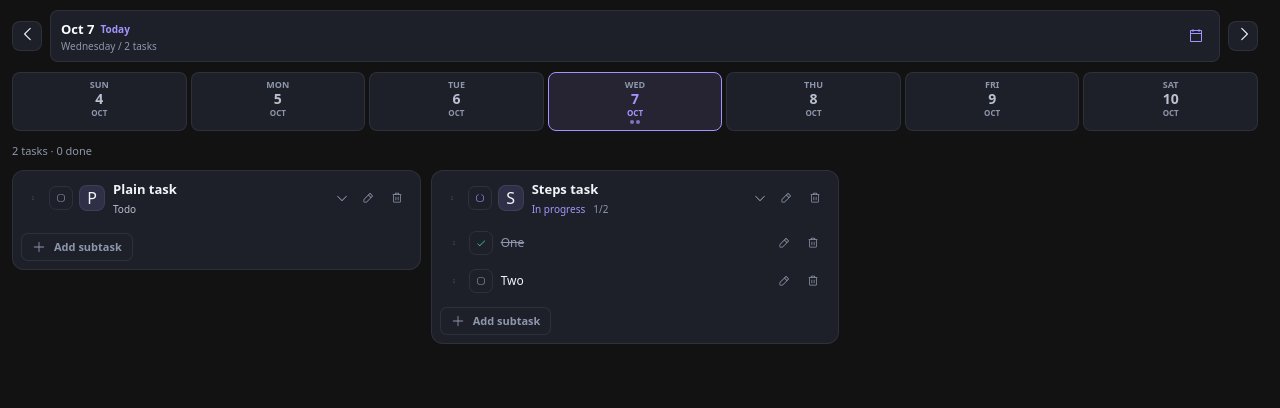
the status of a task and its subtasks › finishing the last subtask › completes the task when the offer is taken
Click the button with test id "subtask-status-two" at (481, 280), box [469,268,493,292]
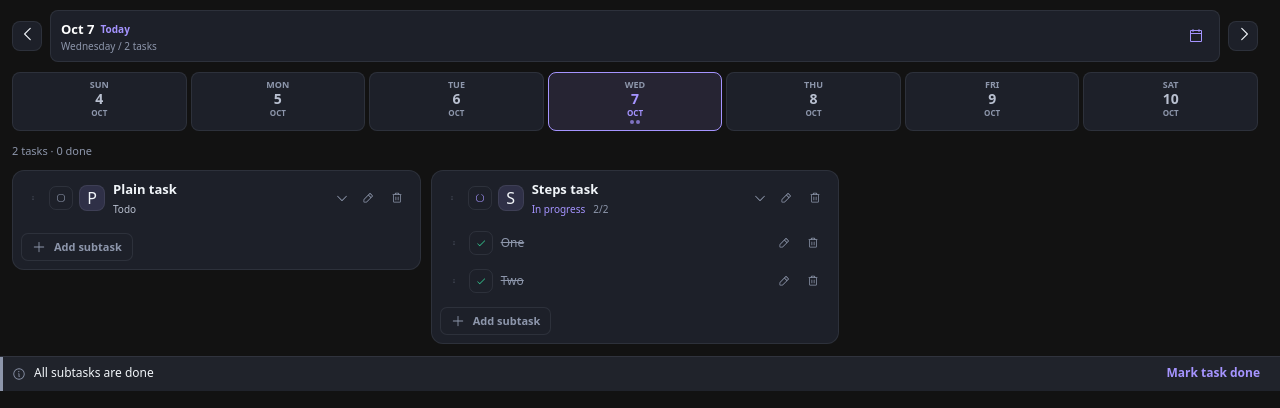
Click the button with test id "feedback-action" at (1213, 374), box [1158,362,1268,386]
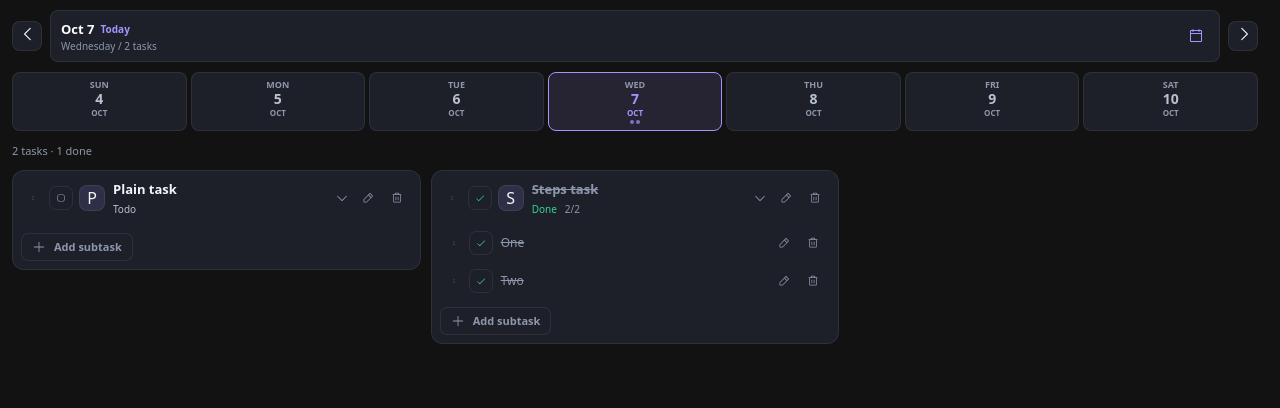
expect the text "2 tasks · 1 done" is shown: met, box [12,143,92,158]
